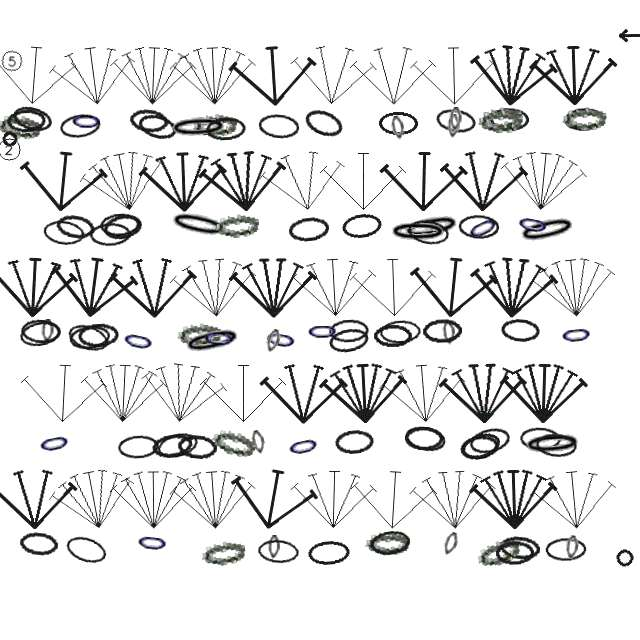chain: (167, 207, 230, 243), (516, 212, 579, 248), (181, 323, 244, 359), (400, 210, 463, 245), (474, 533, 523, 572), (522, 430, 583, 458), (301, 105, 347, 141), (168, 114, 229, 141), (210, 426, 258, 460), (65, 320, 111, 355), (458, 428, 504, 463), (63, 532, 109, 567), (10, 102, 55, 136), (135, 110, 180, 144), (200, 537, 247, 569), (155, 429, 200, 462), (467, 424, 512, 457), (477, 103, 524, 134), (388, 220, 448, 244), (463, 210, 503, 245), (18, 318, 63, 349), (101, 211, 145, 242), (327, 325, 371, 356), (403, 423, 447, 454), (406, 217, 451, 247), (214, 211, 260, 240), (58, 111, 102, 141), (434, 106, 478, 136), (150, 431, 194, 461), (54, 212, 97, 242), (458, 432, 501, 462), (192, 111, 238, 139), (42, 218, 86, 247), (340, 211, 384, 240), (68, 323, 111, 352), (369, 528, 412, 557), (257, 112, 301, 140), (562, 105, 607, 132), (177, 321, 222, 348), (287, 215, 330, 243), (498, 534, 541, 562), (128, 107, 170, 135), (18, 530, 60, 558), (478, 108, 523, 134), (365, 530, 410, 556), (307, 539, 350, 566), (0, 113, 42, 140), (176, 433, 218, 460), (535, 432, 577, 459), (257, 538, 299, 565), (117, 434, 160, 460), (120, 326, 157, 356), (36, 428, 73, 458), (285, 431, 322, 461), (500, 317, 541, 344), (334, 428, 375, 455), (205, 116, 247, 142), (77, 322, 119, 348), (328, 318, 370, 344), (379, 319, 421, 345), (519, 426, 561, 452), (6, 108, 47, 134), (99, 212, 140, 238), (20, 318, 61, 344), (563, 107, 605, 132), (89, 222, 131, 247), (545, 537, 587, 562), (515, 210, 551, 239), (263, 325, 299, 354), (489, 107, 530, 132), (458, 214, 499, 239), (422, 318, 462, 343), (495, 540, 535, 565), (378, 111, 419, 135), (373, 324, 413, 348), (404, 426, 444, 450), (559, 321, 594, 348), (135, 529, 170, 556), (202, 325, 236, 351), (70, 109, 103, 133), (306, 319, 339, 343), (441, 531, 460, 557), (264, 328, 282, 354), (250, 429, 267, 455), (390, 115, 406, 140), (442, 320, 456, 345), (565, 535, 579, 560), (447, 114, 460, 138), (449, 107, 462, 131), (41, 319, 54, 343), (268, 535, 280, 559)
fan: (74, 139, 174, 221), (44, 457, 143, 539), (224, 457, 323, 538), (255, 140, 352, 219), (135, 352, 232, 431), (45, 35, 142, 113), (46, 247, 142, 324), (466, 36, 561, 112), (526, 248, 621, 324), (16, 142, 111, 217), (196, 142, 291, 217), (496, 142, 591, 217), (406, 248, 501, 323), (167, 249, 261, 323), (467, 249, 561, 323), (527, 461, 621, 535), (287, 37, 380, 110), (377, 355, 470, 428), (227, 38, 320, 110), (167, 462, 260, 534), (407, 462, 500, 534), (348, 462, 440, 534), (438, 144, 530, 215), (288, 250, 380, 321), (18, 356, 110, 427), (78, 356, 170, 427), (318, 356, 410, 427), (108, 39, 199, 109), (168, 39, 259, 109), (138, 145, 229, 215), (108, 251, 199, 321), (348, 251, 439, 320), (438, 357, 529, 426), (529, 39, 619, 108), (379, 145, 469, 214), (499, 357, 589, 426), (289, 463, 379, 532), (469, 463, 559, 532), (409, 40, 499, 108), (259, 358, 349, 426), (349, 40, 438, 108), (229, 252, 318, 320), (109, 464, 198, 532), (319, 146, 408, 213), (199, 358, 288, 425), (0, 37, 81, 110), (0, 250, 80, 321), (0, 463, 79, 532)
noise: (0, 48, 25, 74), (0, 136, 22, 162), (613, 546, 636, 569), (0, 129, 19, 148), (616, 28, 640, 43)
